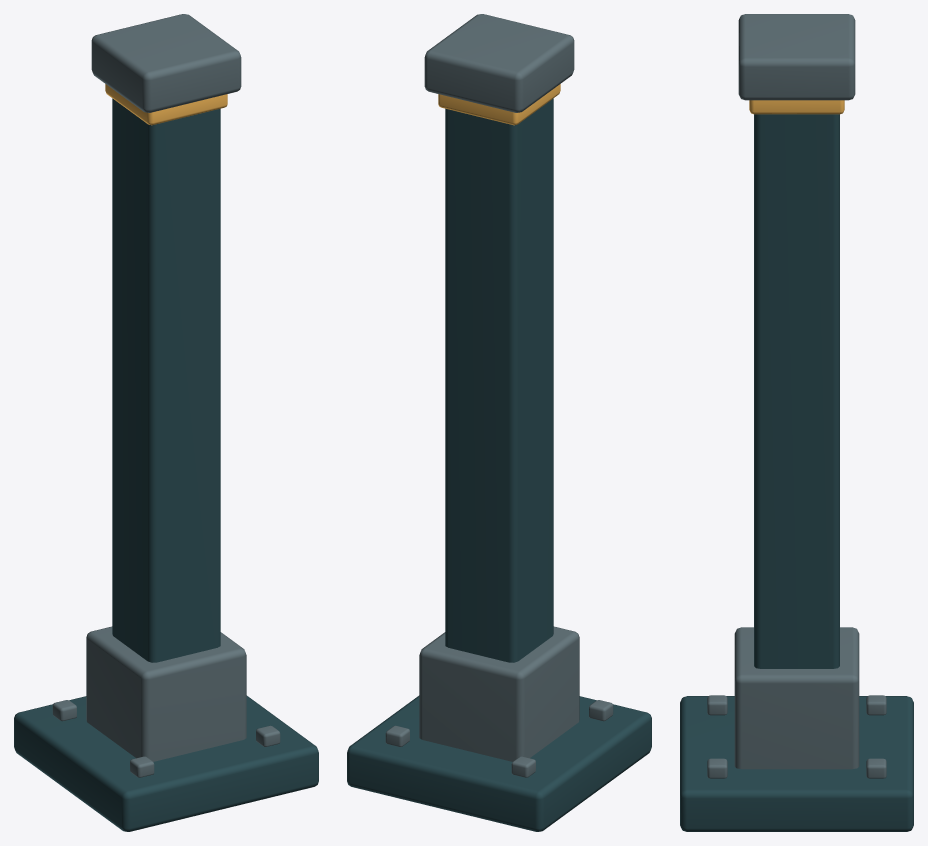
File: city_quay_furniture_02_post_quay.glb
3 renders of one model, left to right at view 1: azimuth 30°, elevation 25°; view 2: azimuth 150°, elevation 25°; view 3: azimuth 270°, elevation 25°, orthographic. The views are drawn at different scales.
Visible parts, largest first — view 1: CityQuayFurniture02_post_quay_Mesh; view 2: CityQuayFurniture02_post_quay_Mesh; view 3: CityQuayFurniture02_post_quay_Mesh.
Boxes of the visible parts, x1,y1,x2,y2 form: CityQuayFurniture02_post_quay_Mesh: (14,14,318,831); CityQuayFurniture02_post_quay_Mesh: (347,14,651,831); CityQuayFurniture02_post_quay_Mesh: (680,14,913,831).
Bounding box in the file's own units: 0.3 × 1.06 × 0.3.
